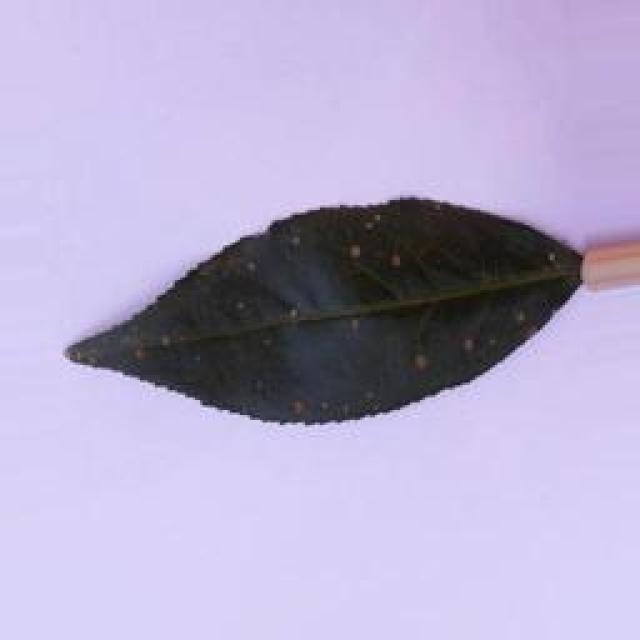Algal Leaf Spot: (57, 202, 578, 447)
